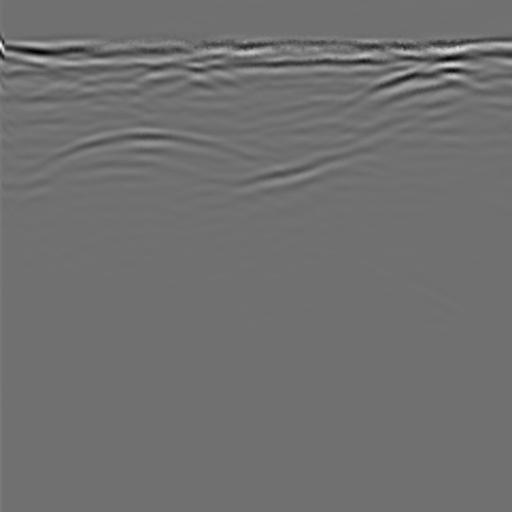hyperbola: (15, 115, 291, 231)
